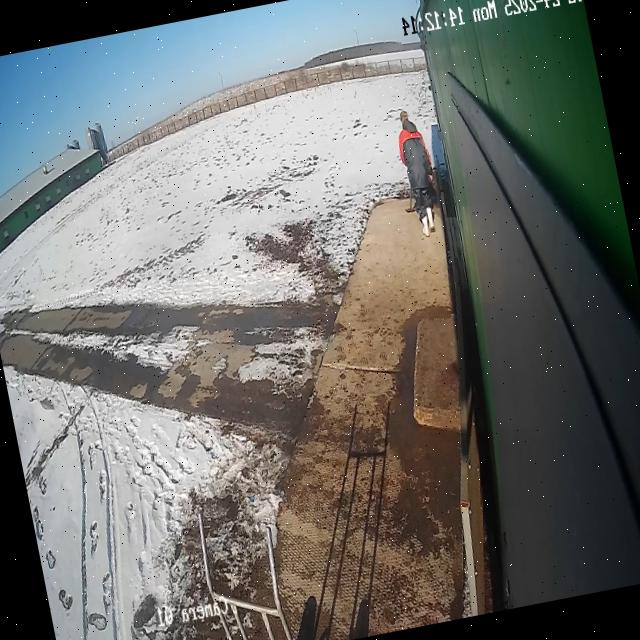Red uniform: (390, 105, 448, 241)
